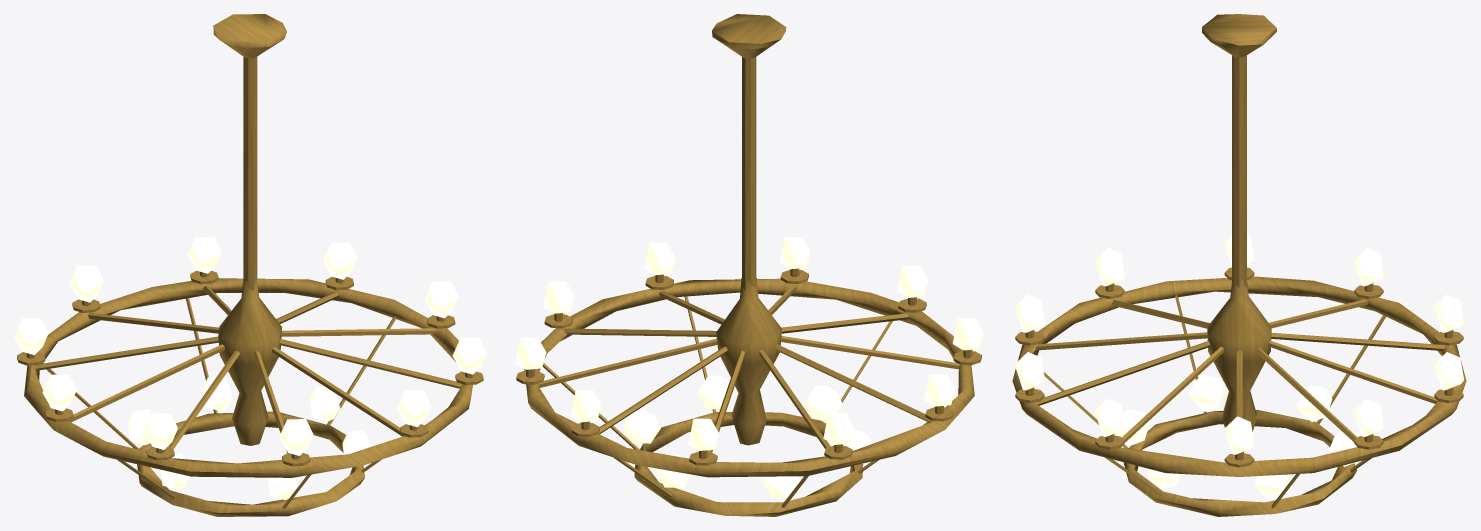
File: lustre-60-leve.glb
3 views of the same model, side by side, from view 1: azimuth 30°, elevation 25°; view 2: azimuth 150°, elevation 25°; view 3: azimuth 270°, elevation 25° (orthographic).
Visible parts, largest first — view 1: aro, corpo, aro-de-baixo, haste, canopla, braco.009, braco.004, braco.005, braco, braco.008, chama.003, chama.009 (+15 smaller); view 2: aro, corpo, aro-de-baixo, haste, canopla, braco.001, braco.006, braco.005, braco.002, braco, gota, gota.004 (+15 smaller); view 3: aro, aro-de-baixo, corpo, haste, canopla, braco.008, braco.002, braco.003, braco.007, gota.003, braco.009, braco.001 (+14 smaller).
Part boxes in pixels (x1,y1,x2,y2): aro: (24,278,472,477); corpo: (218,279,281,445); aro-de-baixo: (137,411,364,516); haste: (243,57,257,290); canopla: (213,14,286,58); braco.009: (279,339,462,388); braco.004: (35,336,218,370); braco.005: (68,344,224,422); braco: (281,328,436,336); braco.008: (272,347,403,436); chama.003: (69,265,103,302); chama.009: (452,337,486,374); aro: (524,278,974,477); corpo: (716,278,782,445); aro-de-baixo: (634,412,863,516); haste: (742,57,756,290); canopla: (712,14,786,58); braco.001: (538,339,717,387); braco.006: (781,336,959,369); braco.005: (774,344,931,422); braco.002: (598,346,727,434); braco: (563,328,716,336); gota: (623,409,660,443); gota.004: (805,385,842,419); aro: (1012,276,1466,476); aro-de-baixo: (1123,409,1357,516); corpo: (1207,278,1271,431); haste: (1232,55,1246,287); canopla: (1202,14,1276,57); braco.008: (1034,341,1210,405); braco.002: (1268,340,1437,403); braco.003: (1271,333,1445,350); braco.007: (1035,332,1207,350); gota.003: (1189,375,1224,411); braco.009: (1121,346,1223,442); braco.001: (1255,348,1357,442).
Size of the model in its own units: 1.29 by 1.33 by 1.24.
Materials: 2 (1 with a texture image).
